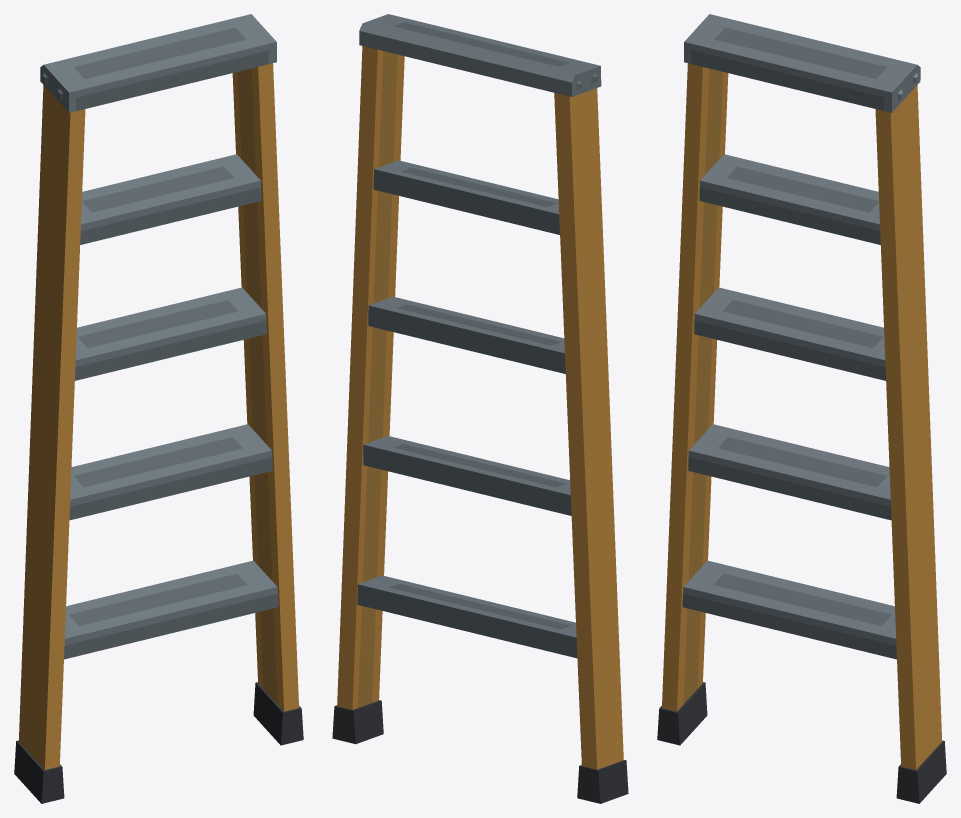
File: SM_Prop_Warehouse_Step_Ladder_03.obj
The picture shows the model from 3 angles, left to right: view 1: azimuth 30°, elevation 25°; view 2: azimuth 150°, elevation 25°; view 3: azimuth 330°, elevation 25°; orthographic projection. The views are drawn at different scales.
Visible parts, largest first — view 1: SM_Prop_Warehouse_Step_Ladder_03_0; view 2: SM_Prop_Warehouse_Step_Ladder_03_0; view 3: SM_Prop_Warehouse_Step_Ladder_03_0.
Part boxes in pixels (x1=…): SM_Prop_Warehouse_Step_Ladder_03_0: x1=14, y1=14, x2=303, y2=803; SM_Prop_Warehouse_Step_Ladder_03_0: x1=332, y1=14, x2=628, y2=803; SM_Prop_Warehouse_Step_Ladder_03_0: x1=657, y1=14, x2=946, y2=803.
Bounding box in the file's own units: 0.6256 × 1.63 × 0.1187.
Materials: 1 (1 with a texture image).
